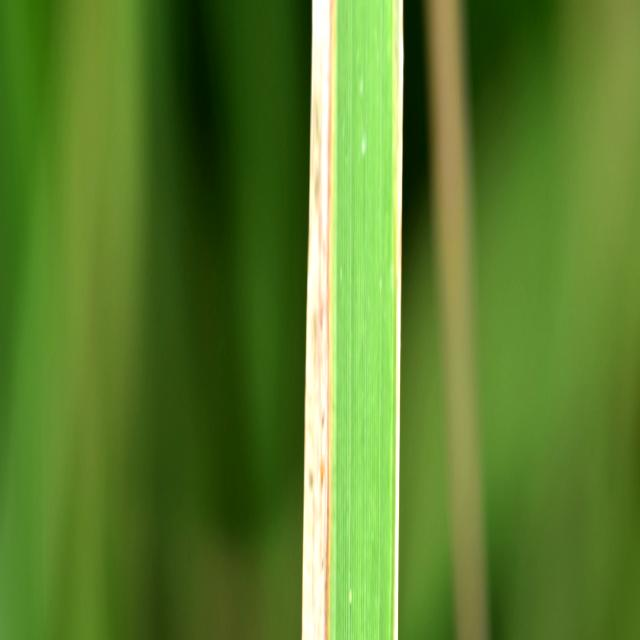BLB: (302, 0, 331, 640)
